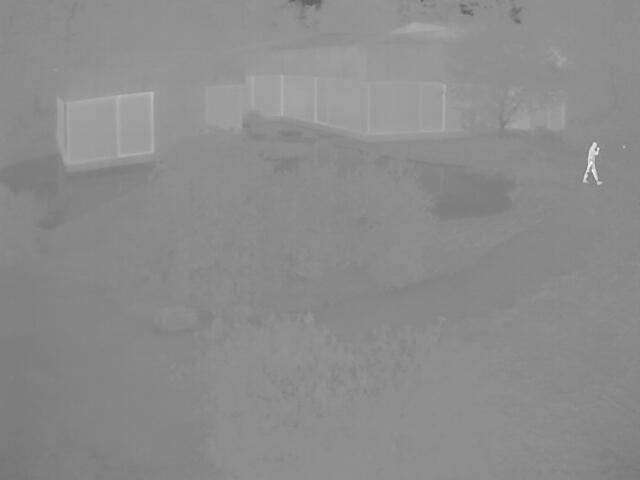person: (580, 142, 601, 186)
